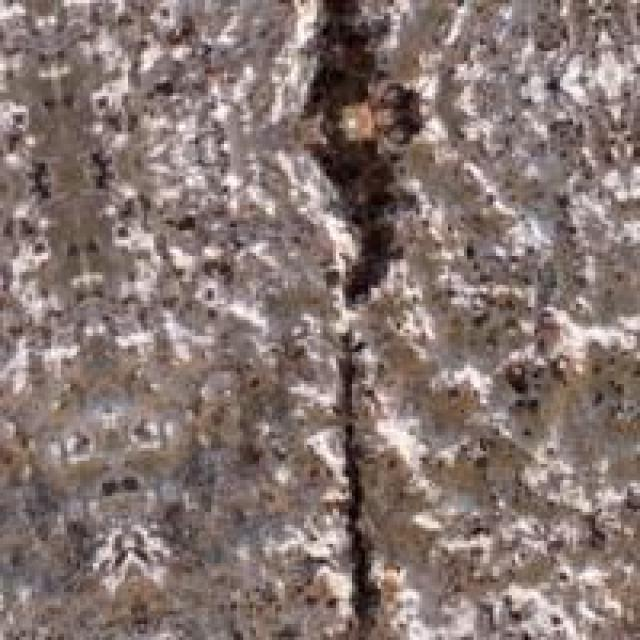Crack: (246, 0, 493, 637)
